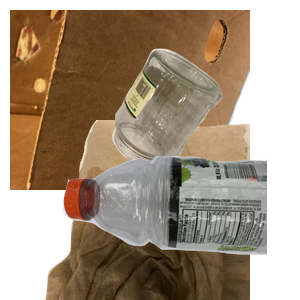cardboard: (10, 10, 250, 190)
glass: (110, 46, 300, 205)
plastic: (60, 152, 300, 300)
trash: (43, 120, 283, 300)
